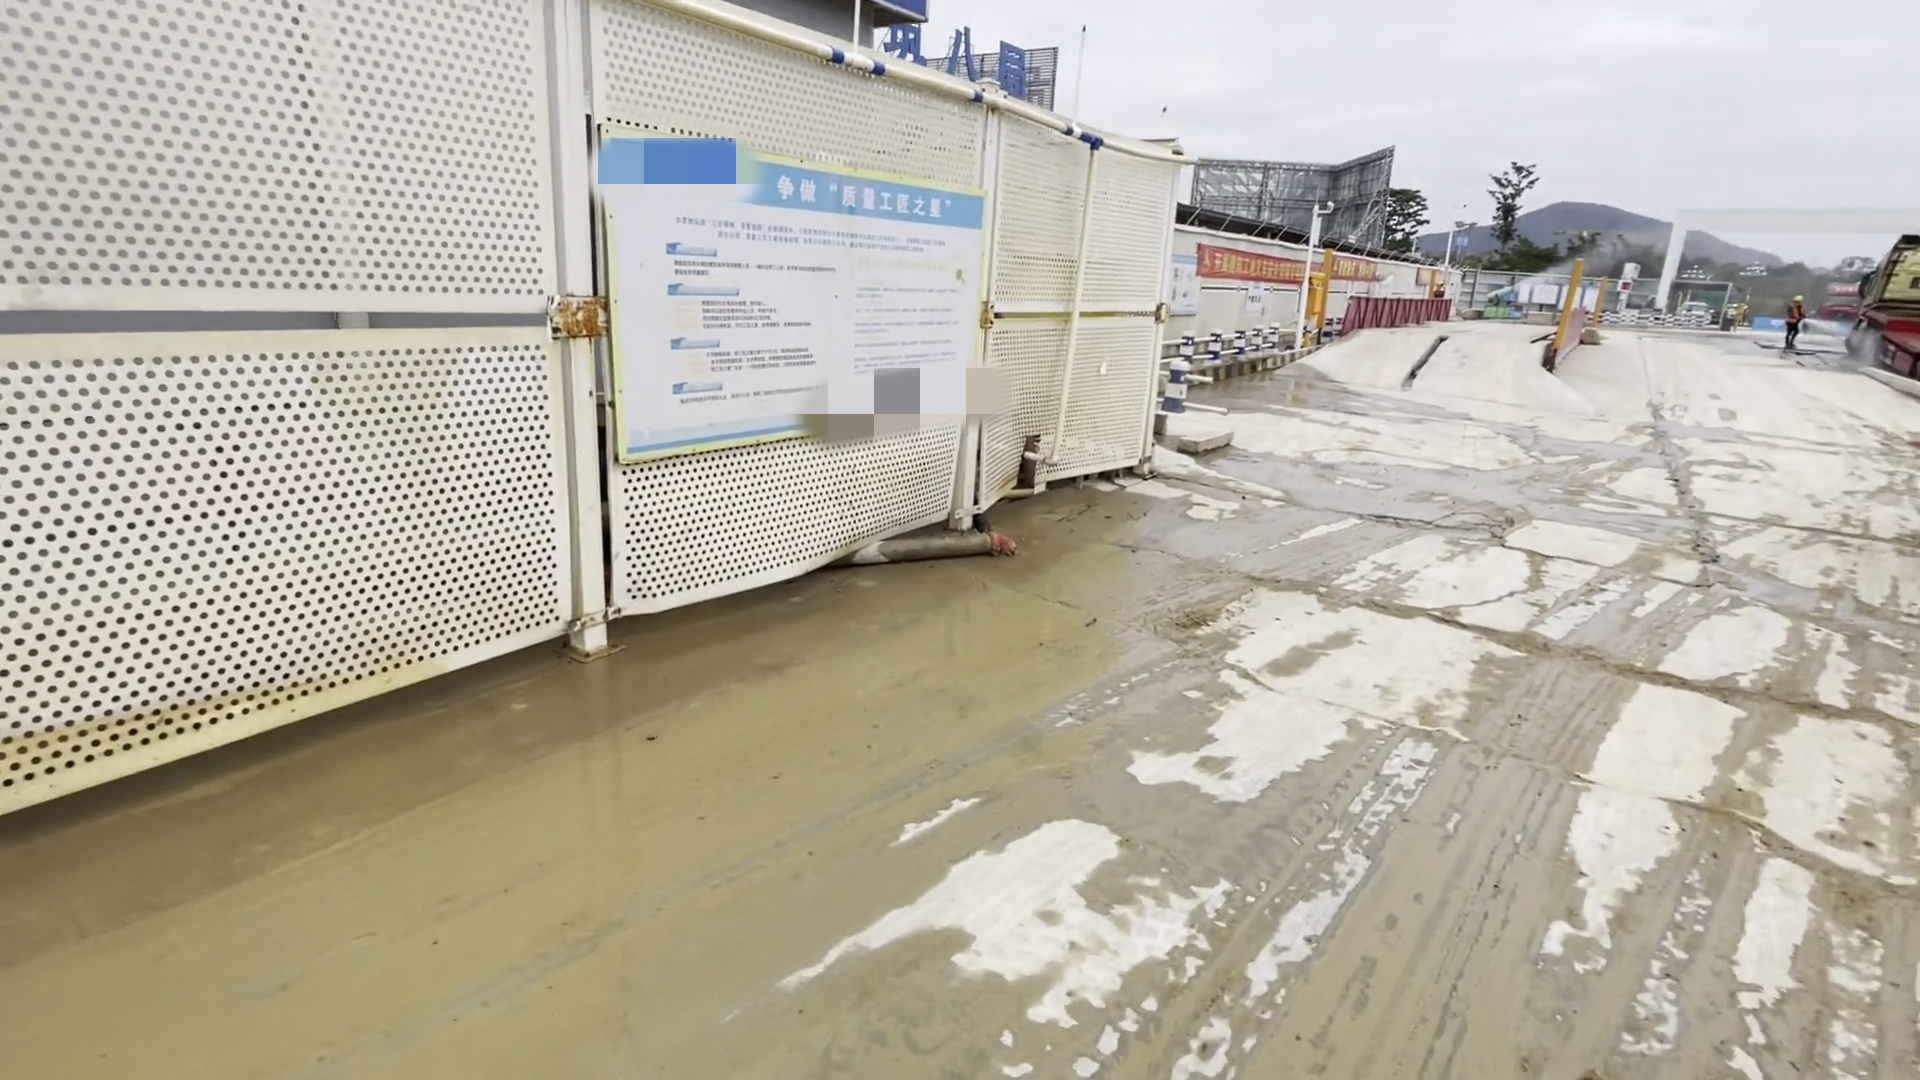slogan: (597, 120, 980, 481)
